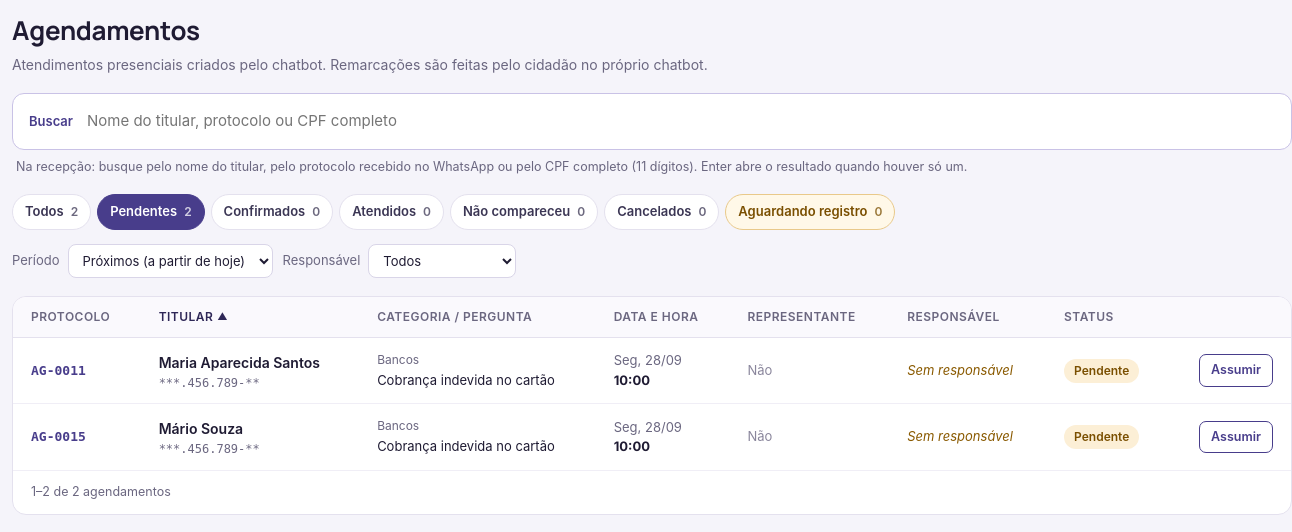
Scenario: Appointments.page: busca › busca depois da pausa na página 1, sem ordem, e esconde chips e filtros
Expected: the text "Maria Aparecida Santos" is shown, [159,352,341,372]
Expected: the text "Na recepção: busque pelo nome do titular, pelo protocolo recebido no WhatsApp ou pelo CPF completo (11 dígitos). Enter a" is shown, [16,158,967,174]
Type "Ma" into the search field labelled "Buscar" at (684, 121), box [83,100,1285,142]
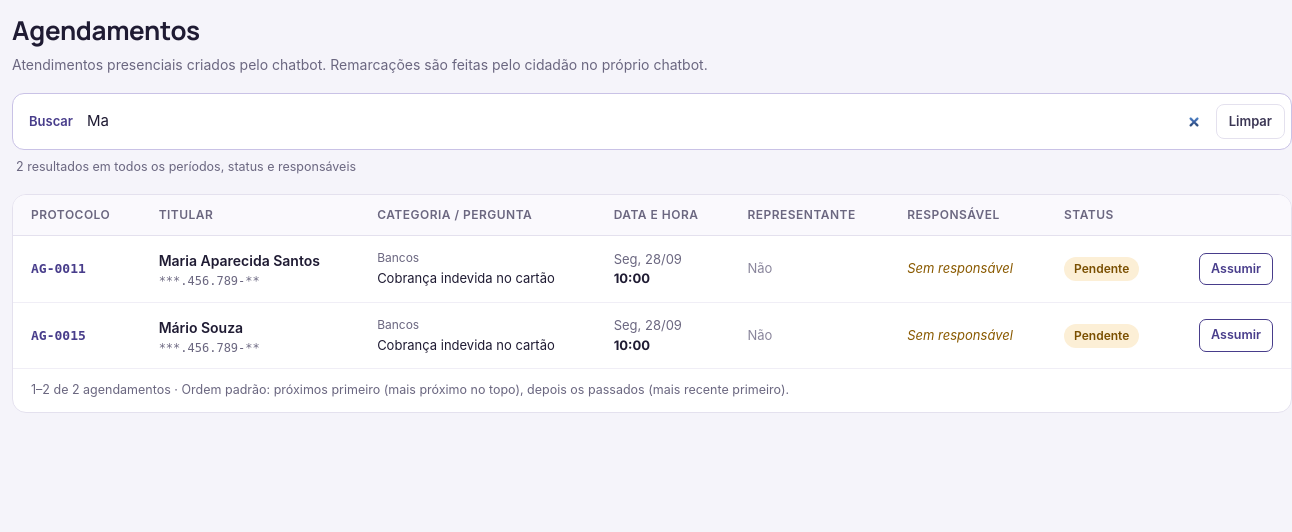
Expected: the text "2 resultados em todos os períodos, status e responsáveis" is shown, [16,158,356,174]
